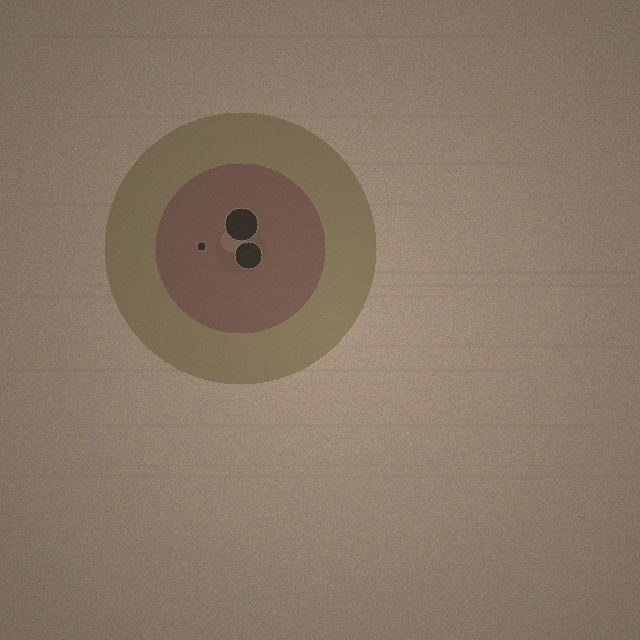shrinkage: (104, 112, 376, 384)
